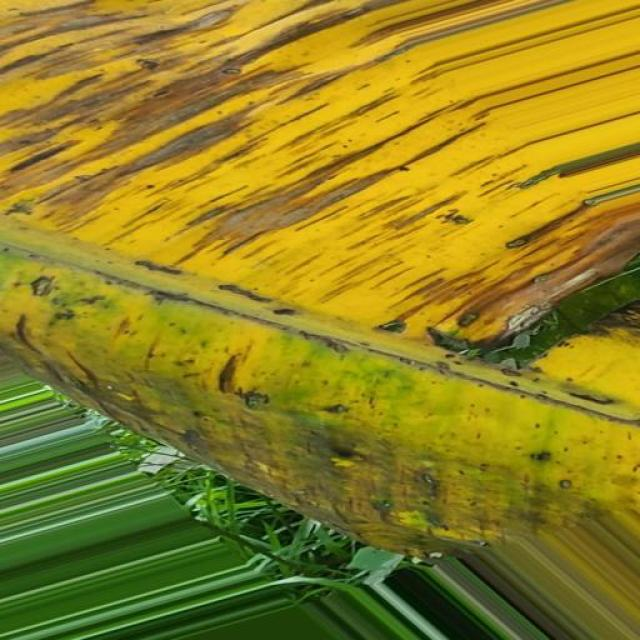Cordana: (0, 0, 639, 590)
